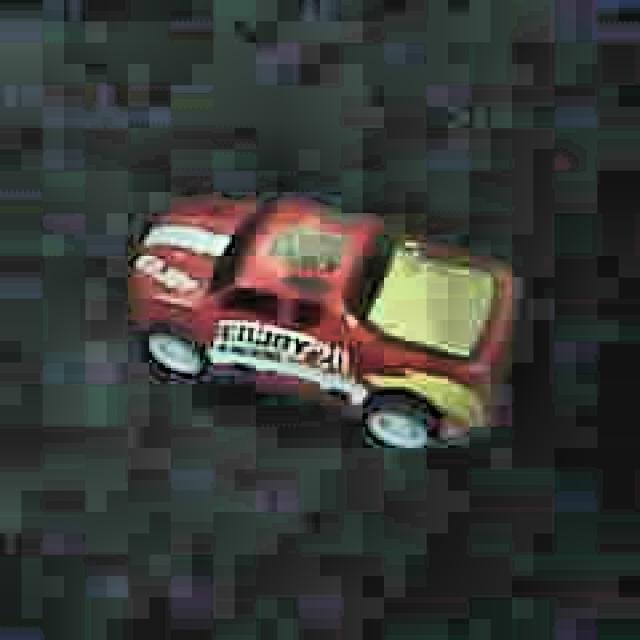car: (121, 183, 522, 462)
